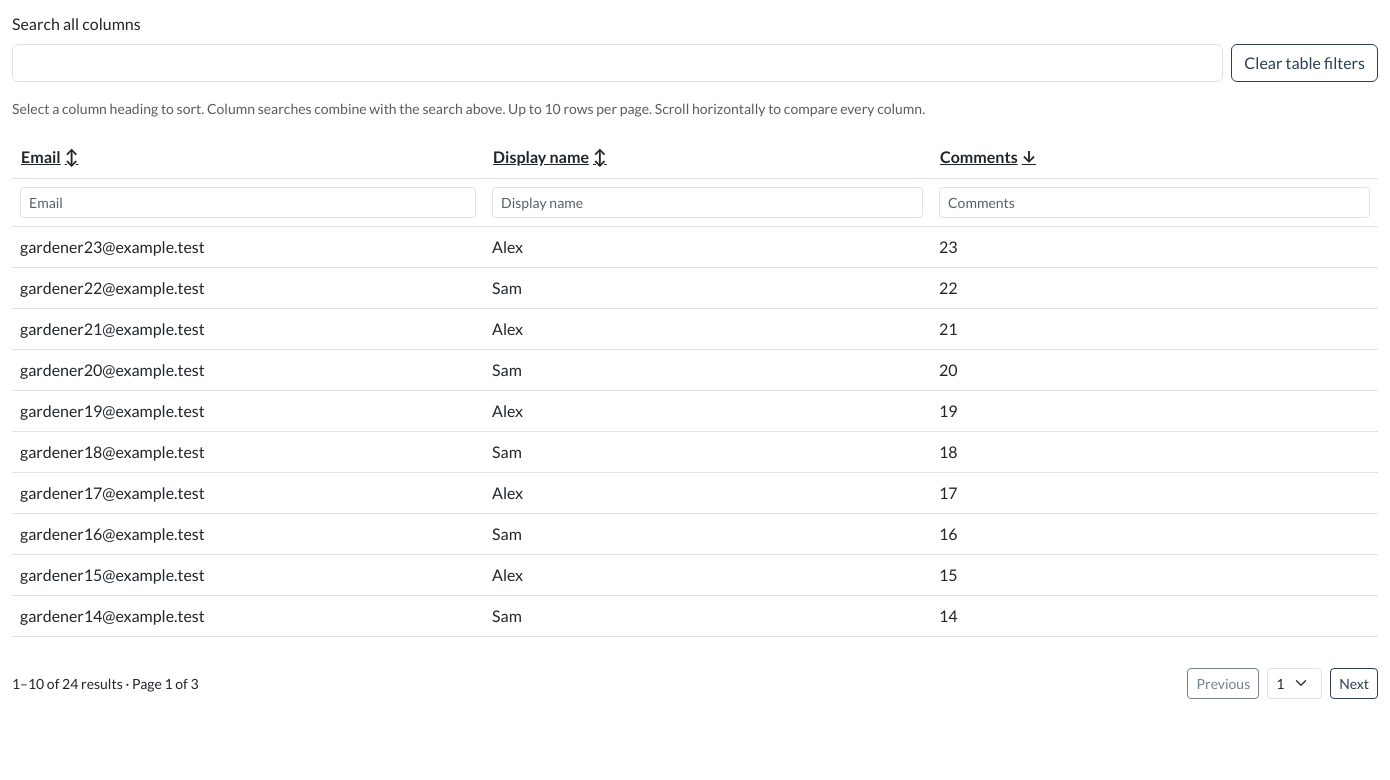
interactive tables › combines global and individual-column search, resets pagination and supports numeric sorting
The image size is (1390, 780).
Select "3" in the dropdown with id "users-page" at (1295, 683), box x1=1267 y1=668 x2=1322 y2=699
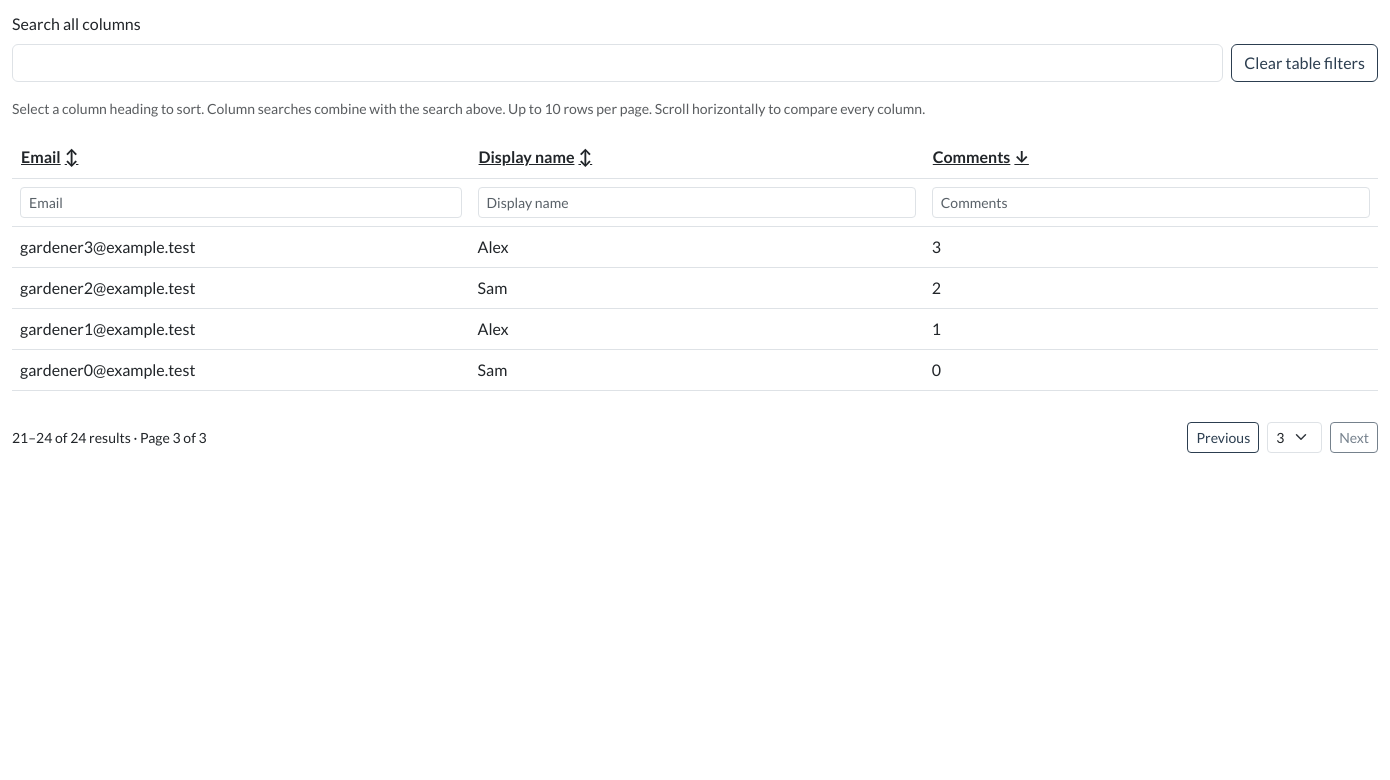
Type "gardener1" into the search field with id "users-search" at (618, 63), box x1=12 y1=44 x2=1223 y2=82
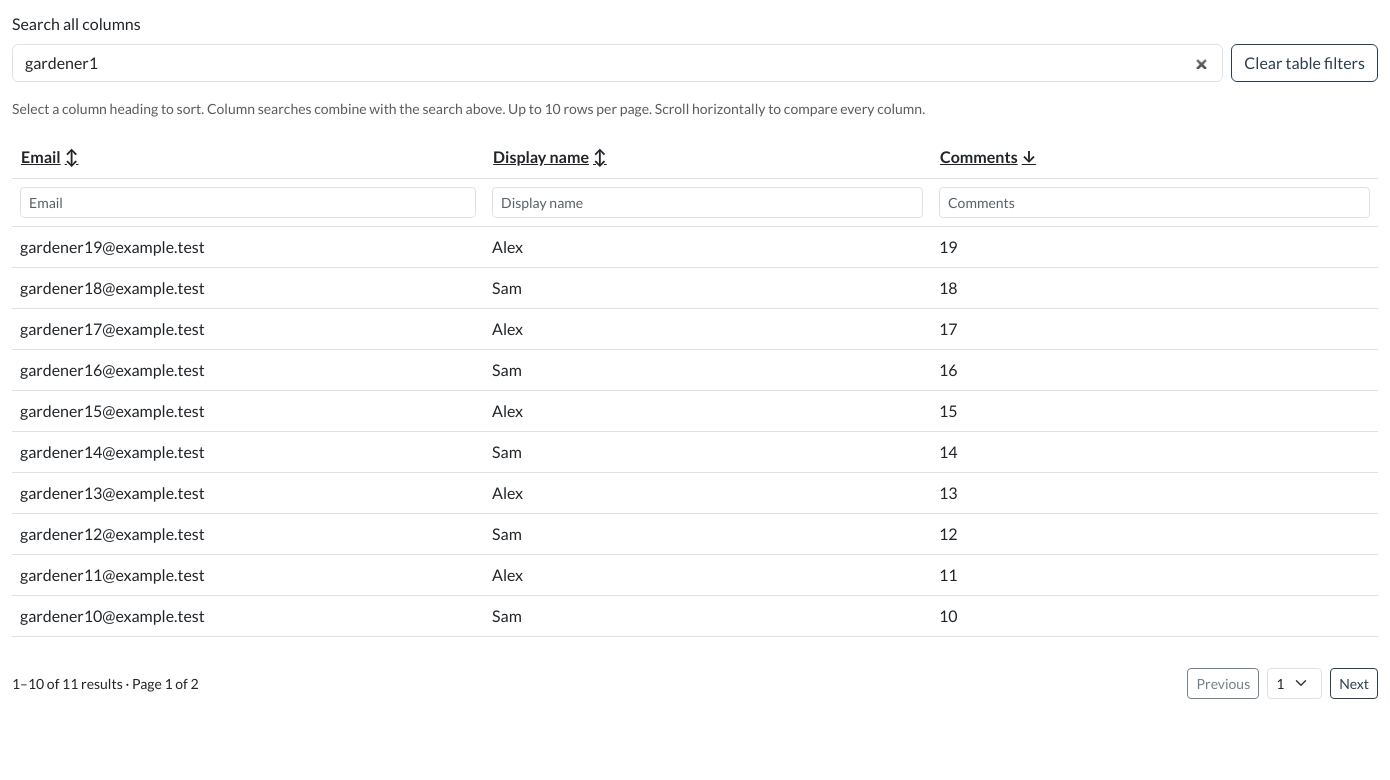
Type "alex" into the search field with id "users-displayName" at (708, 202), box x1=492 y1=187 x2=923 y2=218
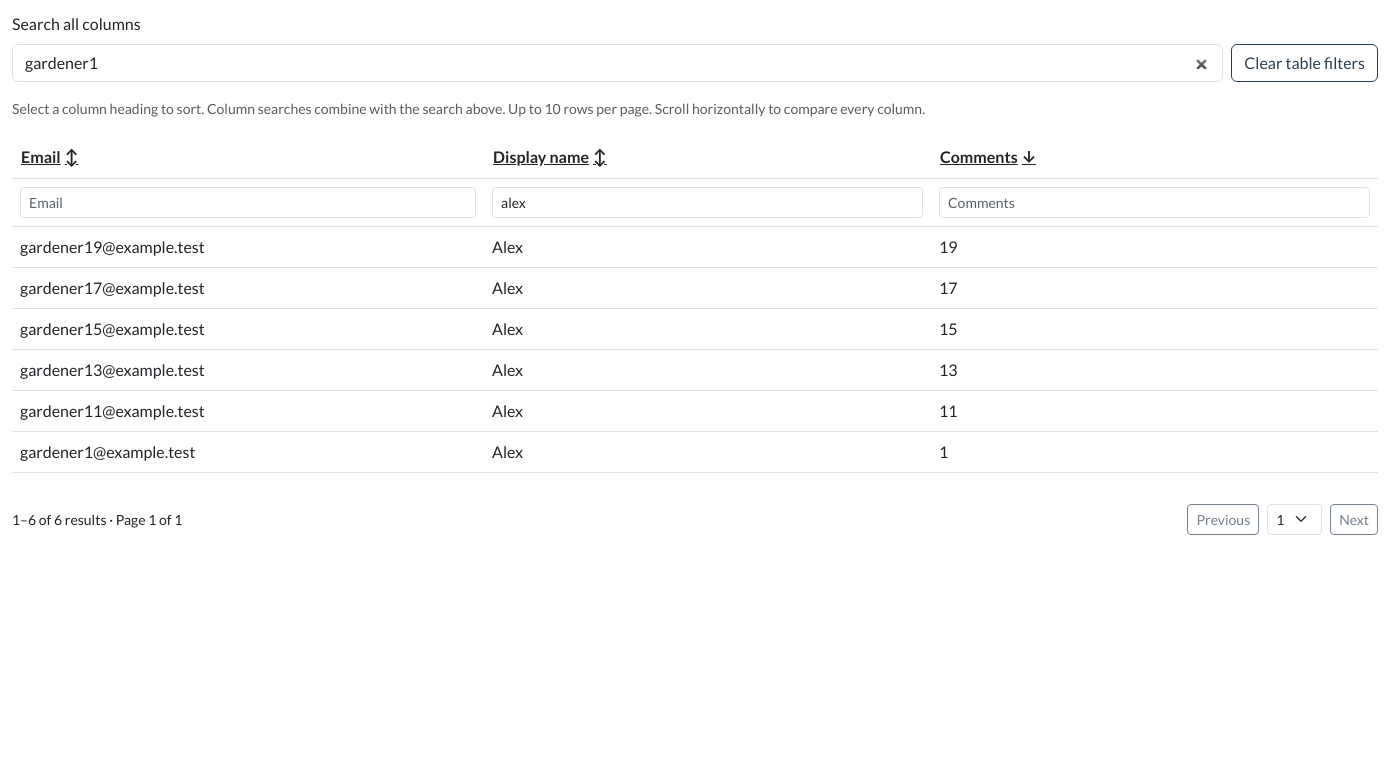
Type "19" into the search field with id "users-commentCount" at (1154, 202), box x1=939 y1=187 x2=1370 y2=218
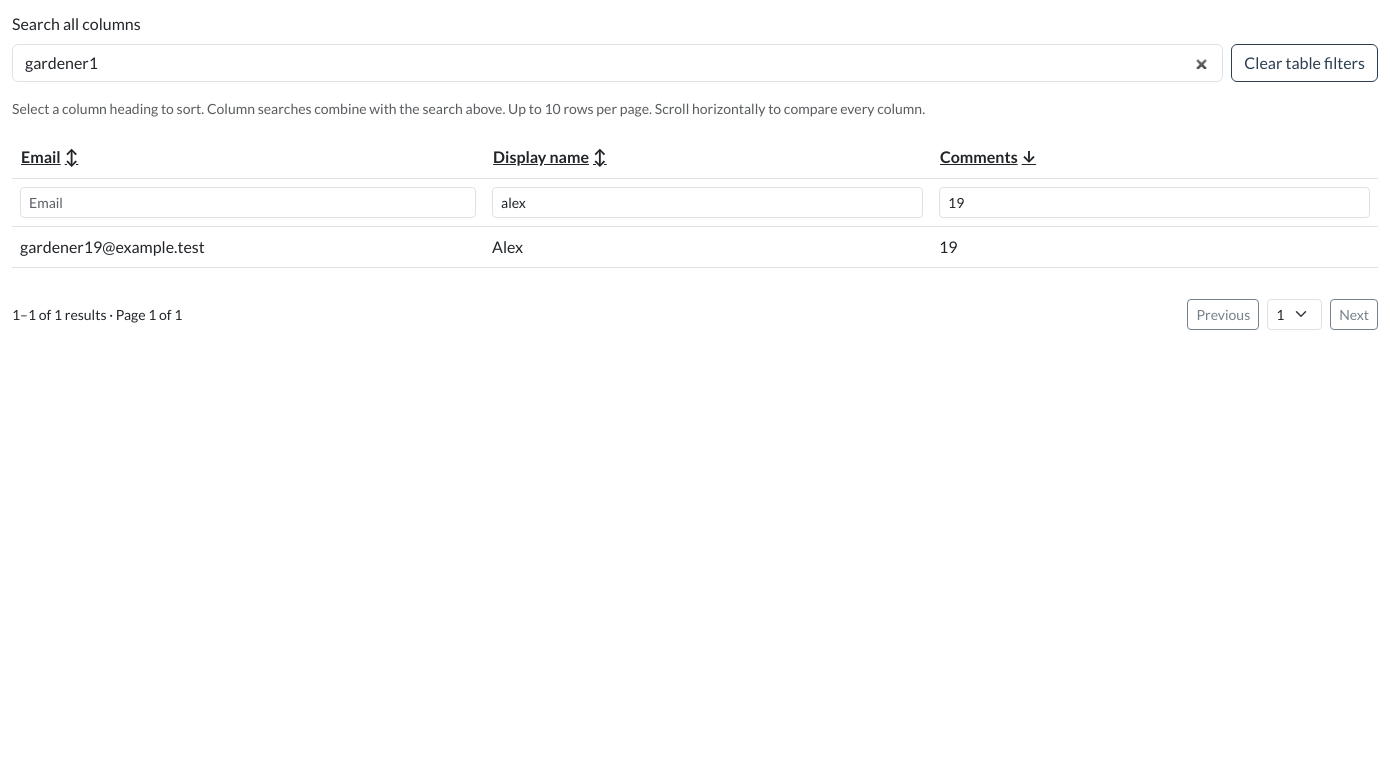
Now the table shows "gardener19@", box x1=20 y1=237 x2=205 y2=256
Click the button "Clear table filters" at (1305, 63), box x1=1231 y1=44 x2=1378 y2=82
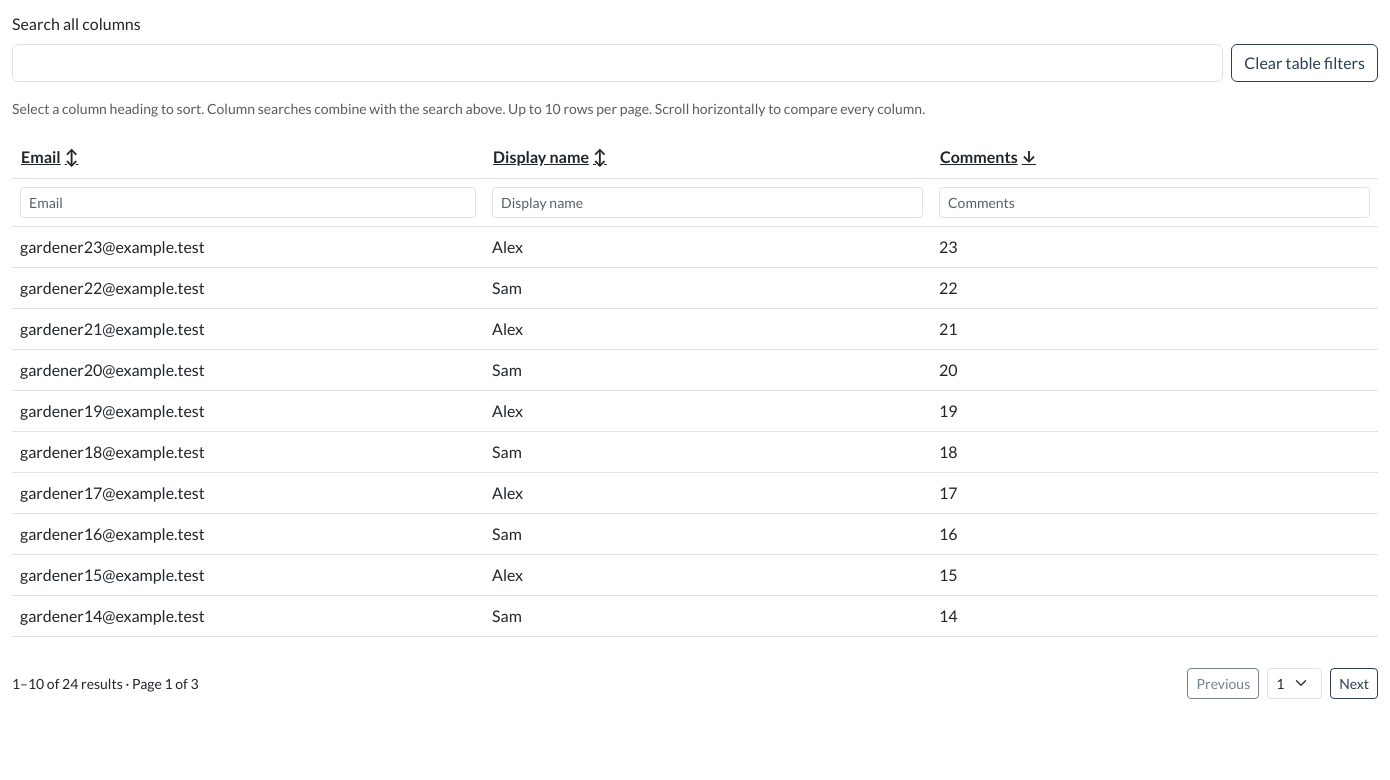
Click the button with aria-label "Sort by Comments, ascending" at (988, 157), box x1=939 y1=144 x2=1037 y2=170
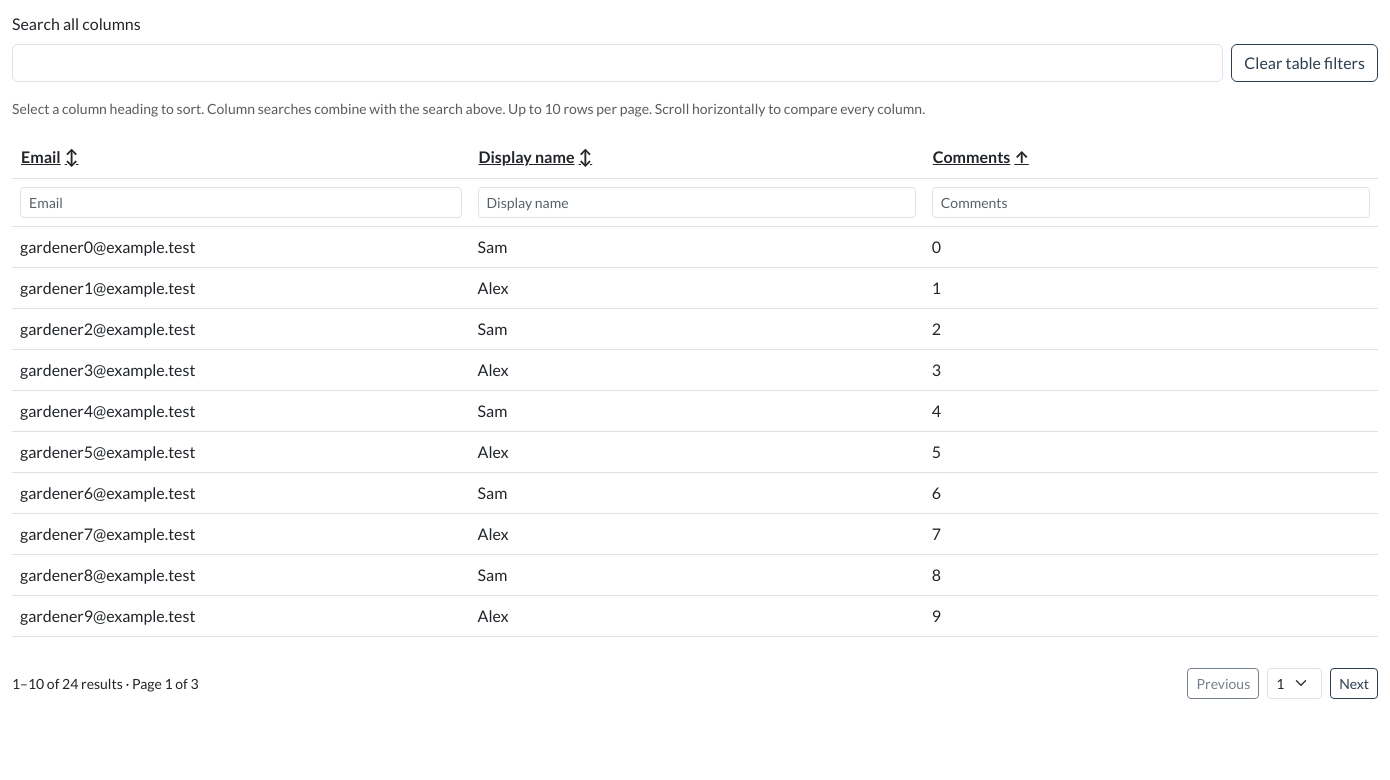
Expected: the column heading "Comments ↑" is shown, x1=924 y1=135 x2=1378 y2=178
Now the row "gardener0@example.test Sam 0" is shown, box x1=12 y1=226 x2=1378 y2=267
